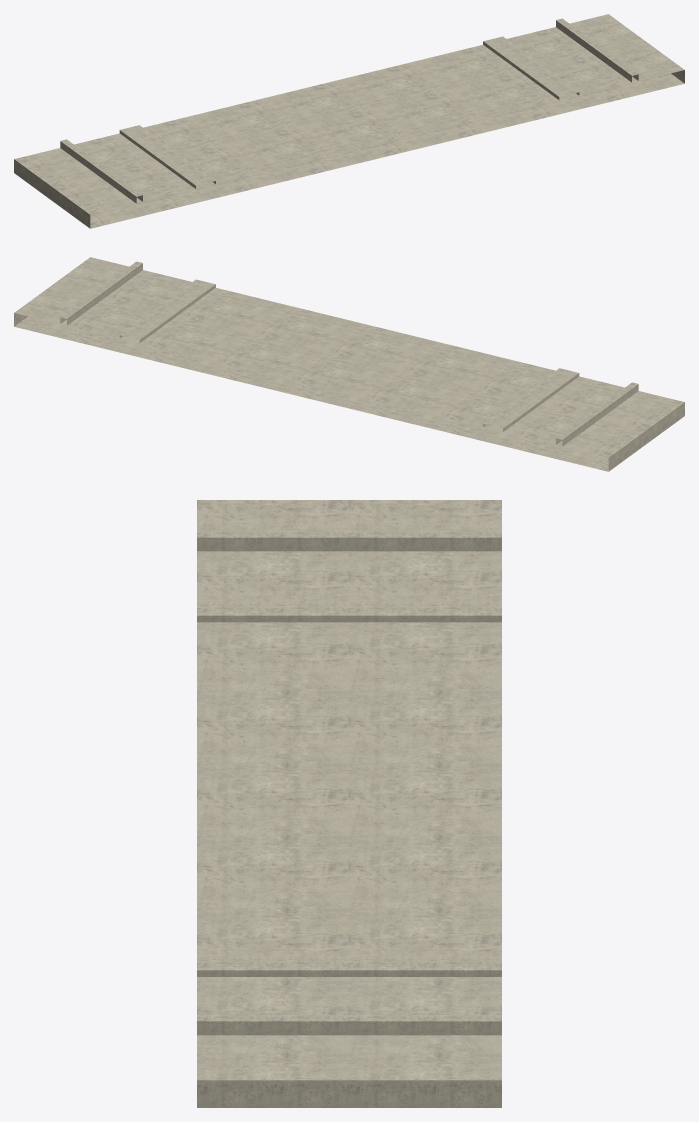
File: SuspBridgeBase-4L-10M.FBX
3 renders of one model, top to bottom at view 1: azimuth 30°, elevation 25°; view 2: azimuth 150°, elevation 25°; view 3: azimuth 270°, elevation 25°, orthographic. The views are drawn at different scales.
Visible parts, largest first — view 1: SuspBridgeBase-4L-10m; view 2: SuspBridgeBase-4L-10m; view 3: SuspBridgeBase-4L-10m.
Boxes of the visible parts, bbox=[...] form: SuspBridgeBase-4L-10m: bbox=[14, 14, 684, 228]; SuspBridgeBase-4L-10m: bbox=[14, 257, 684, 471]; SuspBridgeBase-4L-10m: bbox=[197, 500, 501, 1107].
Size of the model in its own units: 45 by 1.5 by 10.
